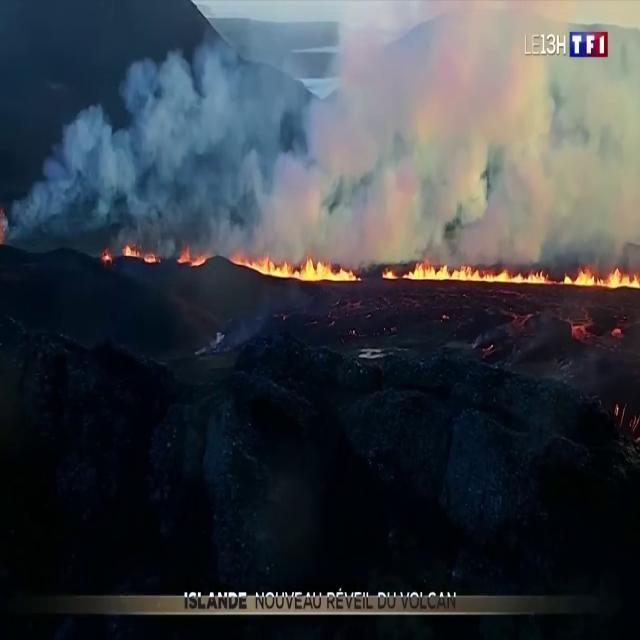Fire: (396, 237, 640, 294), (115, 232, 367, 278)
Smoke: (0, 1, 636, 259)
